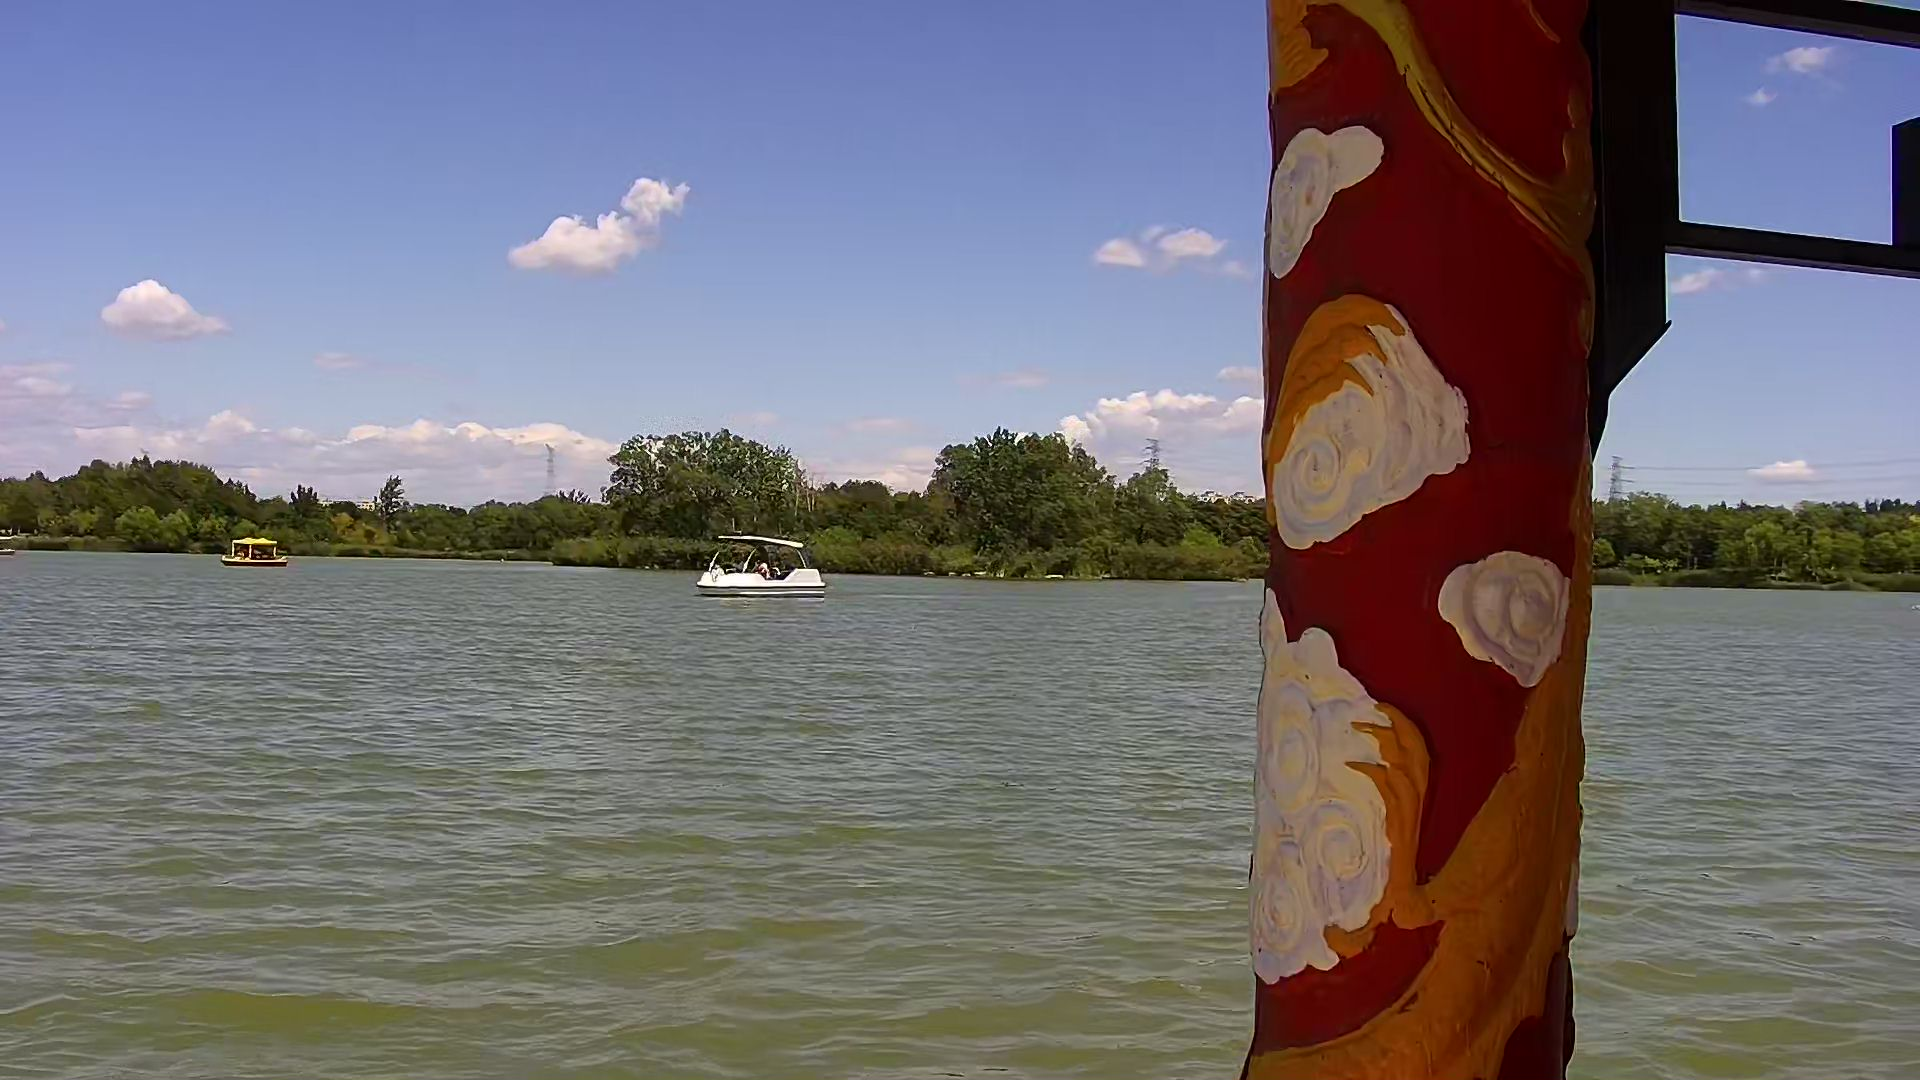boat: (702, 530, 823, 600), (223, 535, 282, 567)
